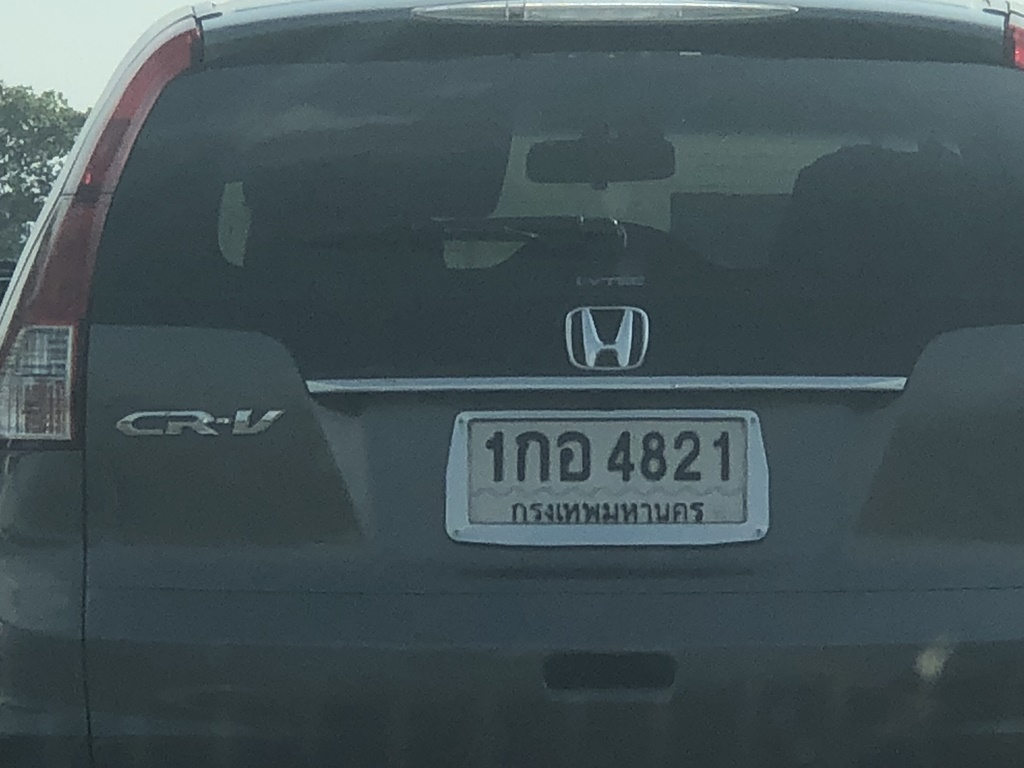eight: (633, 423, 668, 488)
four: (602, 423, 639, 488)
one: (476, 422, 513, 495), (709, 427, 740, 493)
two: (669, 420, 706, 490)
